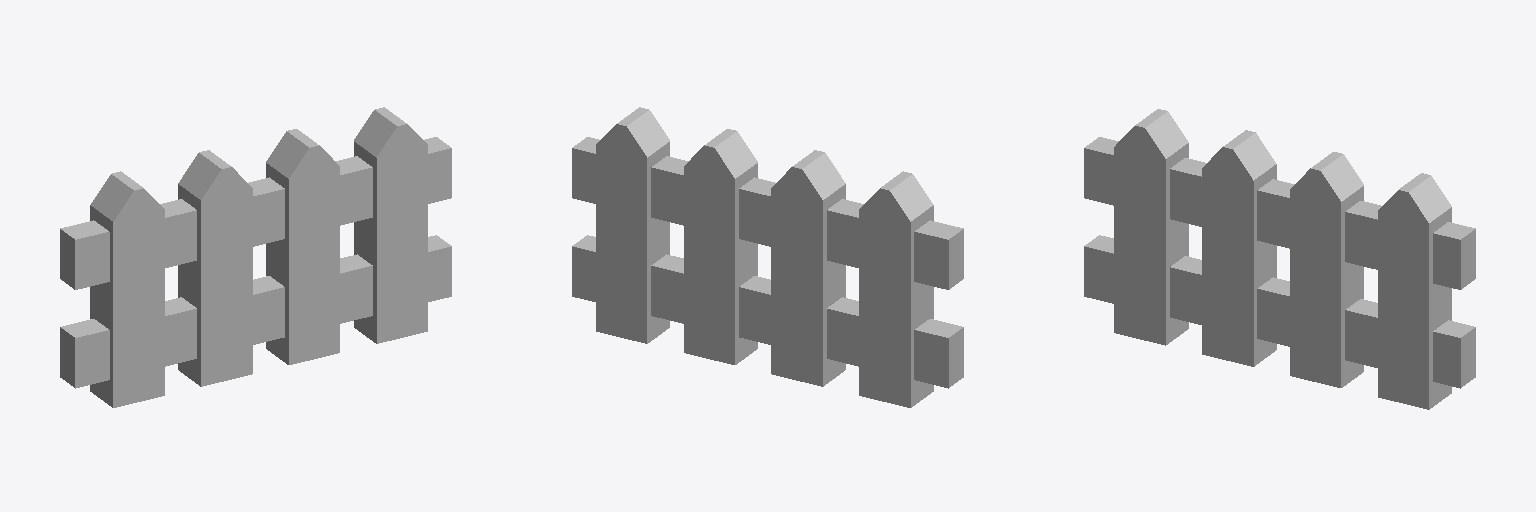
The model's file is fence.obj.
3 renders of one model, left to right at view 1: azimuth 30°, elevation 25°; view 2: azimuth 150°, elevation 25°; view 3: azimuth 330°, elevation 25°, orthographic.
Visible parts, largest first — view 1: Cube.001_Cube.002, Cube_Cube.001; view 2: Cube.001_Cube.002, Cube_Cube.001; view 3: Cube.001_Cube.002, Cube_Cube.001.
Boxes of the visible parts, box(x1,y1,x2,y2) form: Cube.001_Cube.002: box(90, 107, 427, 407); Cube_Cube.001: box(60, 137, 451, 388); Cube.001_Cube.002: box(596, 107, 933, 407); Cube_Cube.001: box(572, 137, 963, 388); Cube.001_Cube.002: box(1114, 109, 1451, 409); Cube_Cube.001: box(1084, 137, 1475, 388).
Size of the model in its own units: 2 by 1.08 by 0.2117.